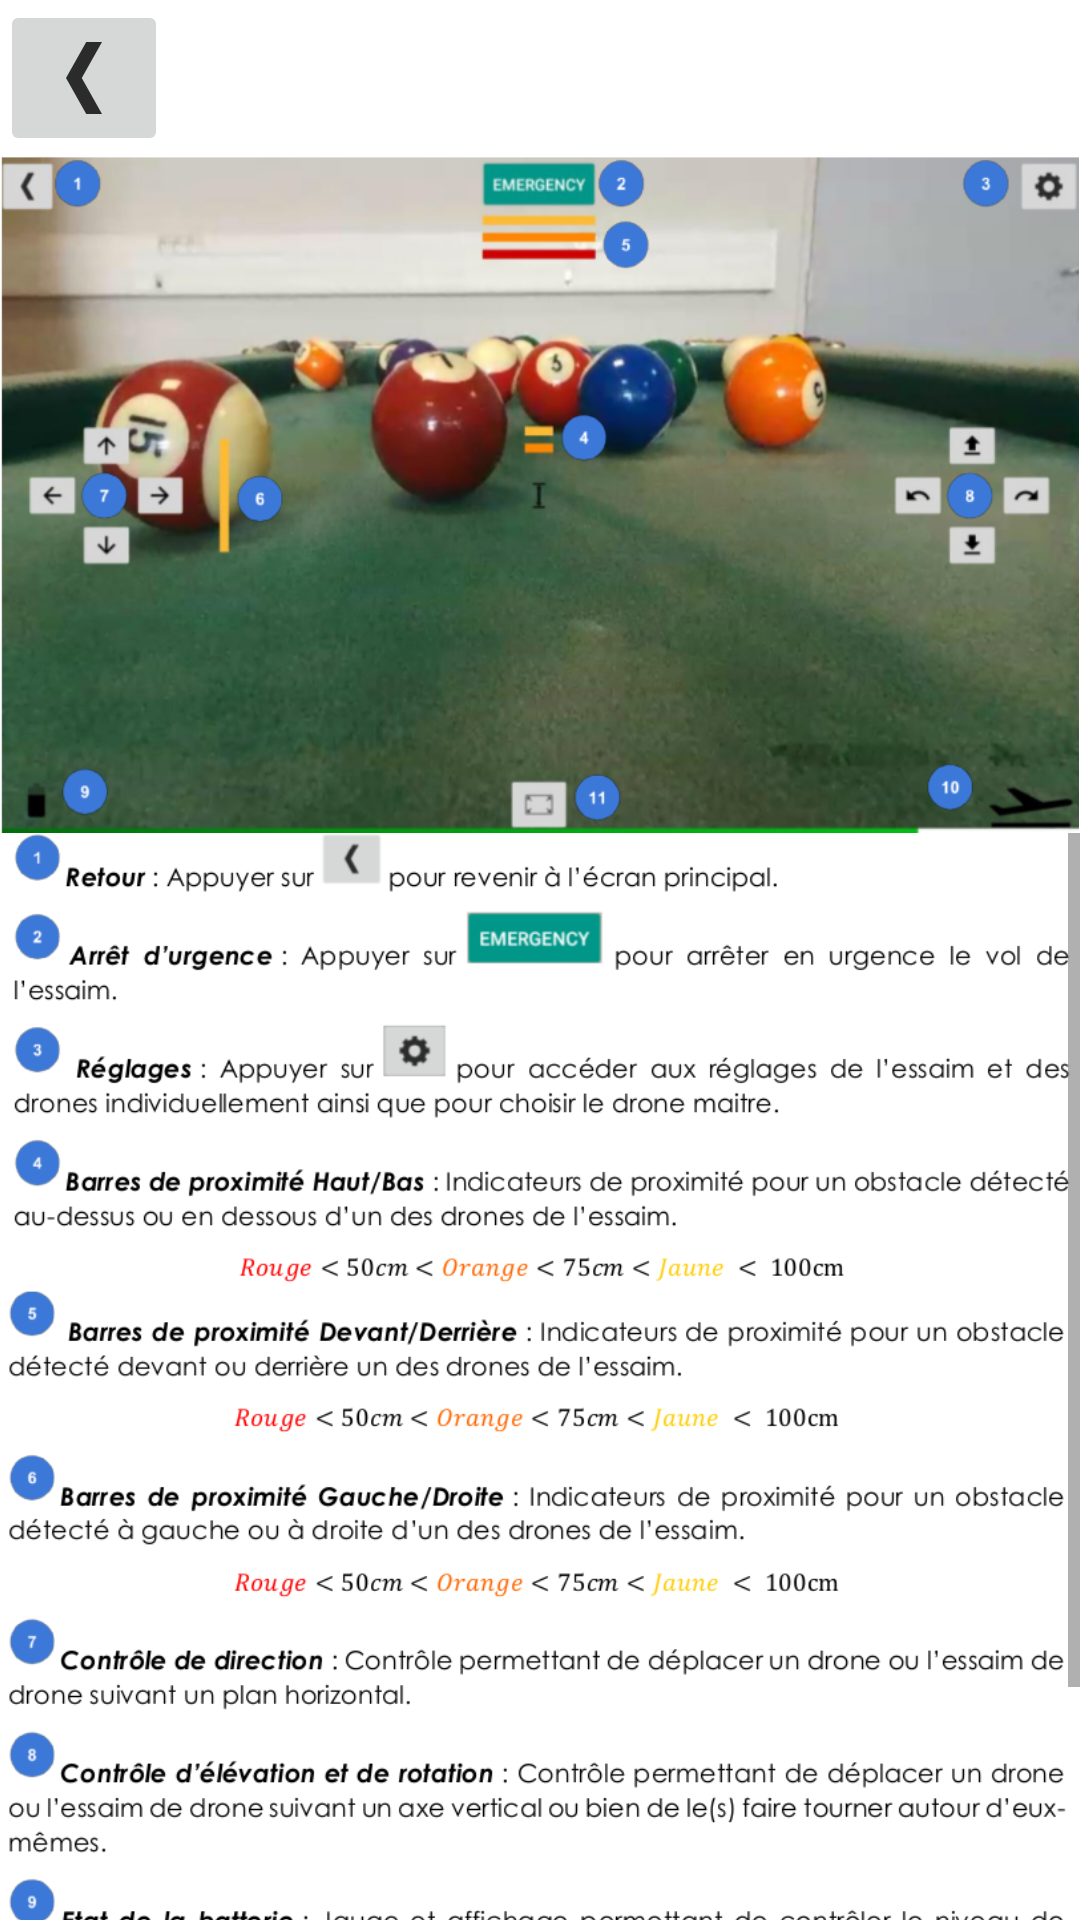

Icons on this 1080 × 1920 Android screen, each with its box as box(x1, y1, x2, y2):
bouton retour: box(12, 18, 156, 138)
